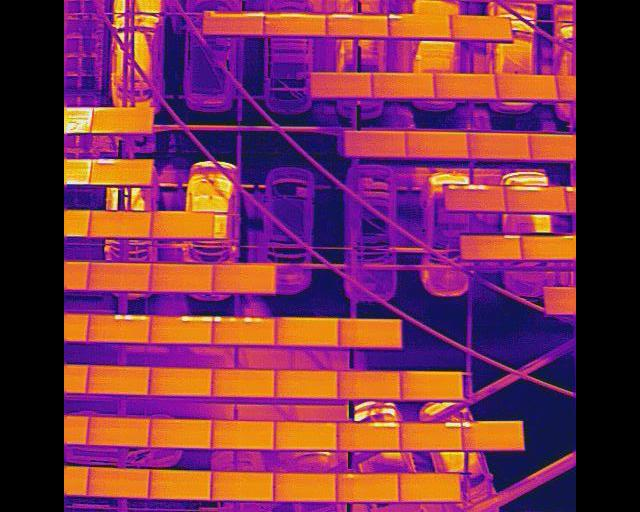Cell: (462, 419, 524, 450)
No-Anomaly: (273, 420, 337, 449), (335, 472, 398, 501), (213, 263, 276, 292), (212, 367, 275, 396), (272, 472, 337, 500), (86, 262, 153, 289), (400, 371, 462, 400), (85, 416, 151, 443), (275, 369, 338, 397), (87, 467, 150, 495), (404, 130, 469, 157), (210, 420, 275, 447), (149, 263, 214, 290), (148, 471, 213, 498), (86, 210, 151, 237), (86, 365, 151, 392), (467, 131, 531, 158), (398, 472, 461, 499), (338, 318, 401, 345), (275, 317, 338, 344), (210, 472, 273, 499), (151, 211, 214, 238), (149, 419, 212, 446), (149, 367, 212, 394), (89, 107, 155, 132), (344, 130, 408, 155), (434, 73, 497, 98), (372, 72, 435, 97), (338, 372, 401, 397), (309, 71, 372, 96), (495, 74, 558, 99), (265, 12, 326, 35), (450, 16, 511, 38), (327, 13, 387, 35), (204, 12, 263, 34), (522, 234, 576, 258)
Unclassified: (401, 418, 463, 449), (338, 421, 400, 450), (149, 315, 214, 342), (212, 316, 274, 343), (505, 185, 567, 212), (86, 315, 150, 341), (91, 158, 154, 184), (445, 184, 506, 210), (459, 232, 522, 257), (387, 13, 450, 36)
